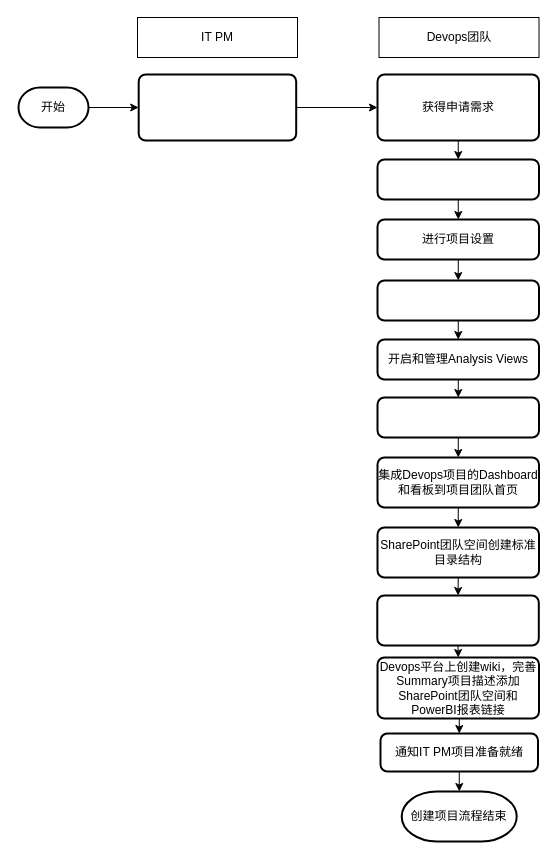
Image size: 557x860. Some labels were removed from this diagram. The shapes that lost their labels are listed below. From the top down, each one's centre as x and y in pixels, then its label:
At [217,107]: "向Devops团队提供项目基本信息，和IT PM个人基本信息，等待项目被创建并被邀请加入项目".
At [458,179]: "Devops平台上创建项目".
At [458,300]: "邀请IT PM加入，并设置为项目管理员".
At [458,417]: "在Teams中创建项目团队".
At [457,620]: "集成PowerBI生成项目报表，获取报表入口连接".
